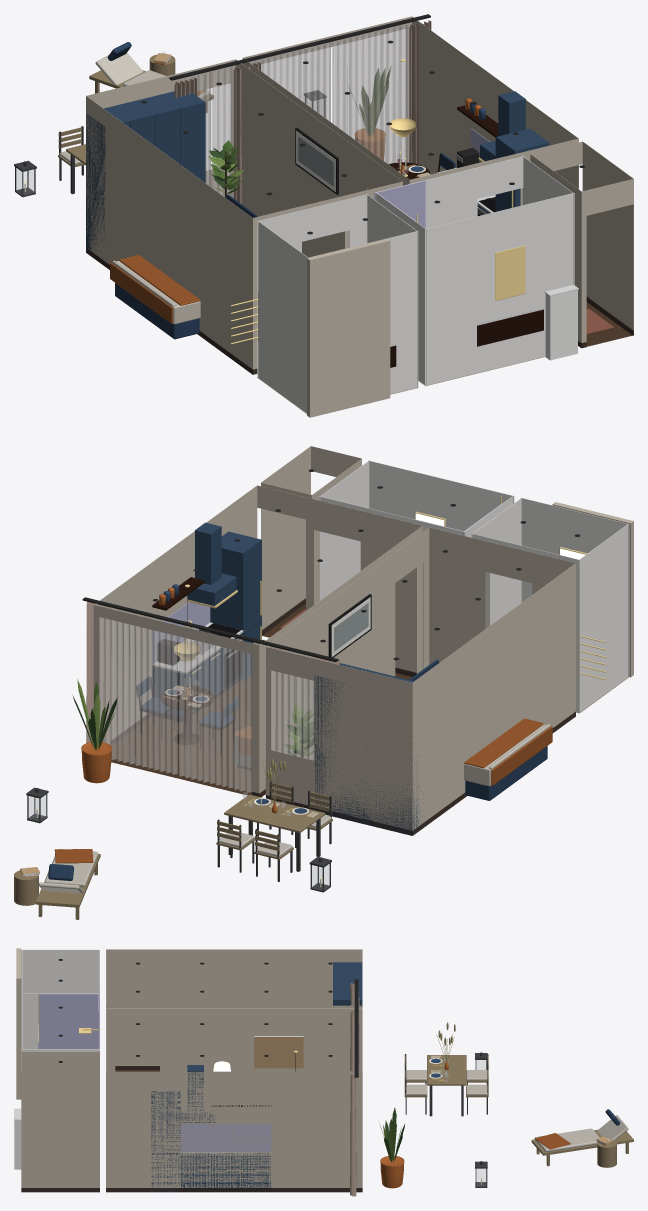
Rendered from unit-0.A-lisboa.glb.
The picture shows the model from 3 angles, top to bottom: view 1: azimuth 30°, elevation 25°; view 2: azimuth 150°, elevation 25°; view 3: azimuth 270°, elevation 25°; orthographic projection. The views are drawn at different scales.
Parts seen in each view (by area): view 1: int-wall, int-bathWall, int-sheer, int-joineryTall, int-curtain, int-bedThrow, int-metal, int-wood, int-whiteGloss, int-matteBlack, int-teak, int-joinery (+10 smaller); view 2: int-wall, int-bathWall, int-sheer, int-floor, int-joineryTall, int-teak, int-joinery, int-curtain, int-outdoor, int-bedThrow, int-matteBlack, int-skirting (+11 smaller); view 3: int-wall, int-bathWall, int-showerWall, int-joinery, int-joineryTall, int-splash, int-teak, int-outCushion, int-skirting, int-art:3:0, int-curtain, int-matteBlack (+3 smaller).
Part boxes in pixels (x1,y1,x2,y2): int-wall: (86, 16, 633, 417); int-bathWall: (257, 156, 574, 412); int-sheer: (186, 23, 412, 197); int-joineryTall: (86, 91, 549, 256); int-curtain: (174, 20, 431, 203); int-bedThrow: (110, 255, 200, 323); int-metal: (230, 59, 525, 344); int-wood: (226, 105, 543, 367); int-whiteGloss: (545, 290, 577, 360); int-matteBlack: (169, 14, 495, 199); int-teak: (58, 54, 213, 166); int-joinery: (477, 91, 525, 213); int-wall: (93, 446, 633, 830); int-bathWall: (319, 460, 629, 713); int-sheer: (99, 617, 314, 792); int-floor: (111, 639, 412, 795); int-joineryTall: (210, 531, 423, 834); int-teak: (14, 782, 332, 919); int-joinery: (152, 522, 241, 717); int-curtain: (86, 601, 339, 795); int-outdoor: (26, 781, 331, 892); int-bedThrow: (464, 718, 552, 785); int-matteBlack: (82, 597, 338, 722); int-skirting: (111, 598, 575, 835); int-wall: (16, 948, 362, 1187); int-bathWall: (21, 949, 99, 1051); int-showerWall: (38, 994, 99, 1048); int-joinery: (176, 1065, 270, 1187); int-joineryTall: (151, 962, 362, 1192); int-splash: (180, 1124, 271, 1151); int-teak: (404, 1055, 633, 1167); int-outCushion: (405, 1070, 628, 1152); int-skirting: (21, 1066, 362, 1192); int-art:3:0: (254, 1037, 303, 1068); int-curtain: (350, 982, 356, 1196); int-matteBlack: (180, 979, 358, 1191).
Size of the model in its own units: 6.62 by 2.92 by 12.54.
